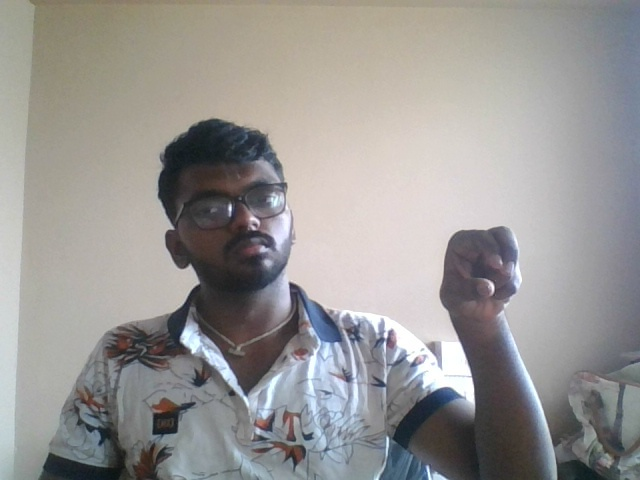No: (419, 203, 565, 349)
